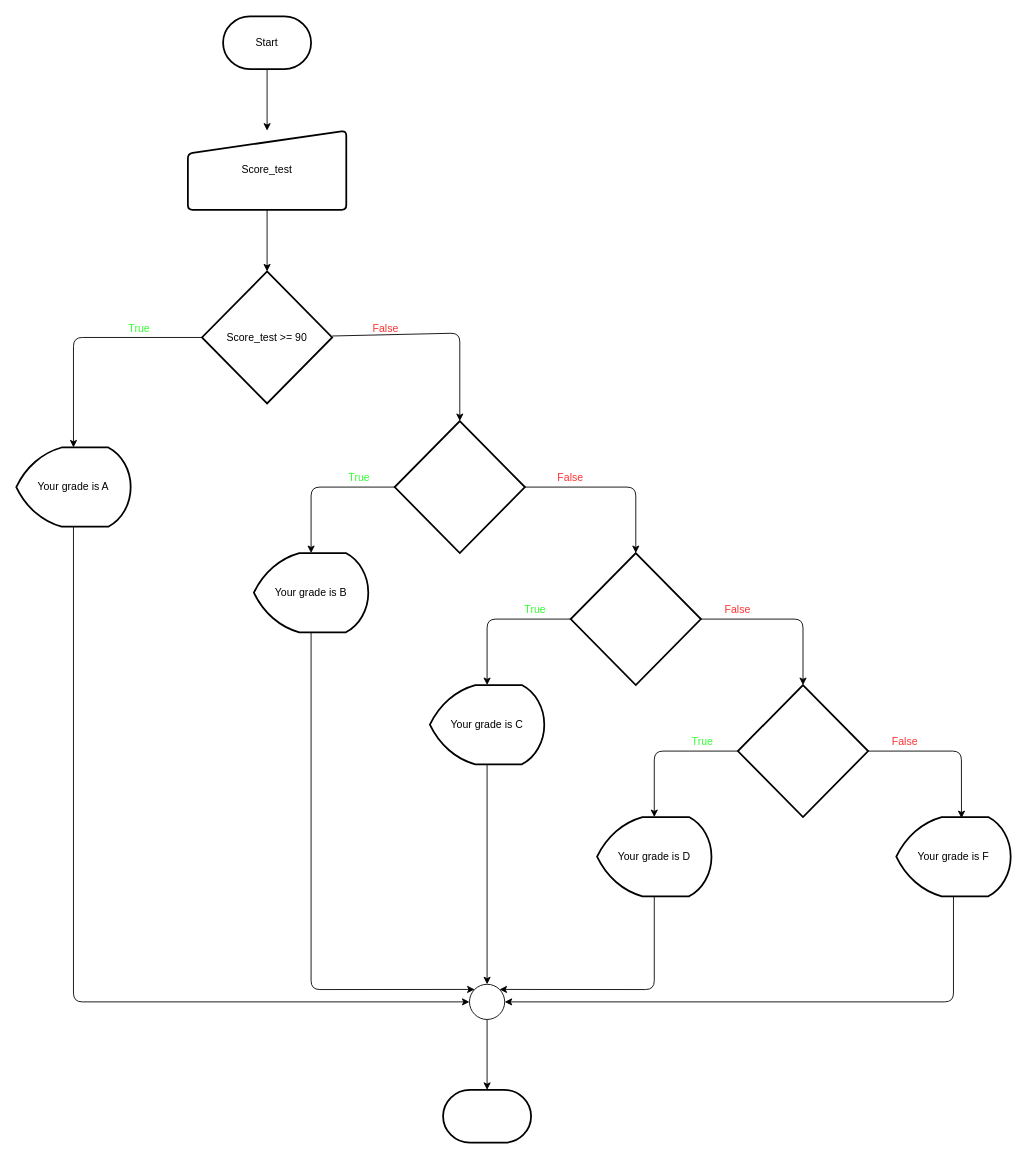
Some shapes in this 1026 by 1158 pixel diagram are drawn without their labels. The box of each missing label's shape, as (x1, y1, x2, y2) in pixels:
End: (442, 1089, 532, 1143)
Score_test >= 60: (737, 684, 869, 818)
Score_test >= 70: (569, 552, 701, 686)
Score_test >= 80: (393, 420, 525, 554)
